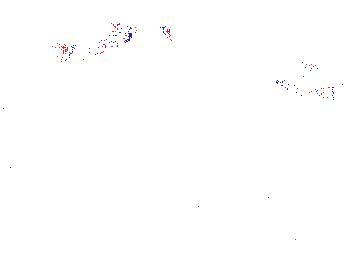red belly glassfish: (294, 57, 321, 72), (238, 25, 252, 40)
redtail glassfish: (58, 30, 134, 59), (108, 17, 175, 42), (274, 74, 329, 103)
